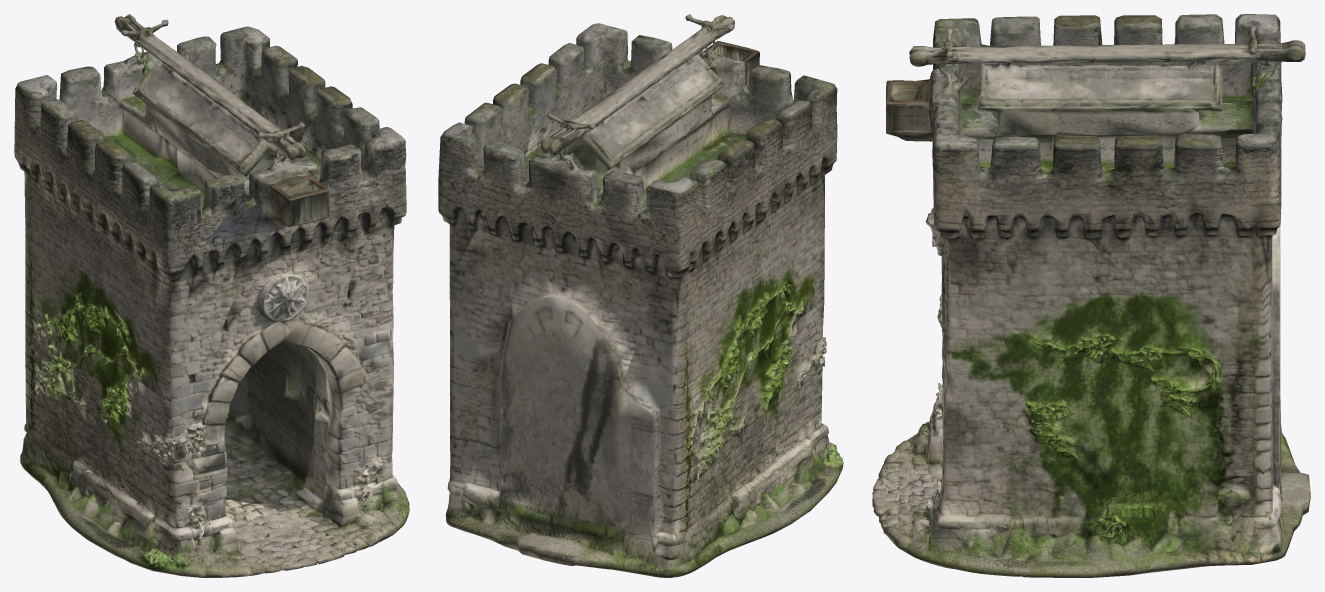
The model's file is fort_m_ruins_gate.glb.
3 views of the same model, side by side, from view 1: azimuth 30°, elevation 25°; view 2: azimuth 150°, elevation 25°; view 3: azimuth 270°, elevation 25° (orthographic). The views are drawn at different scales.
Visible parts, largest first — view 1: fort_m_ruins_gate; view 2: fort_m_ruins_gate; view 3: fort_m_ruins_gate.
Part boxes in pixels (x1,y1,x2,y2): fort_m_ruins_gate: (14, 14, 409, 577); fort_m_ruins_gate: (438, 14, 843, 577); fort_m_ruins_gate: (872, 14, 1310, 577).
Size of the model in its own units: 1.4 by 1.9 by 1.63.
Materials: 1 (1 with a texture image).
